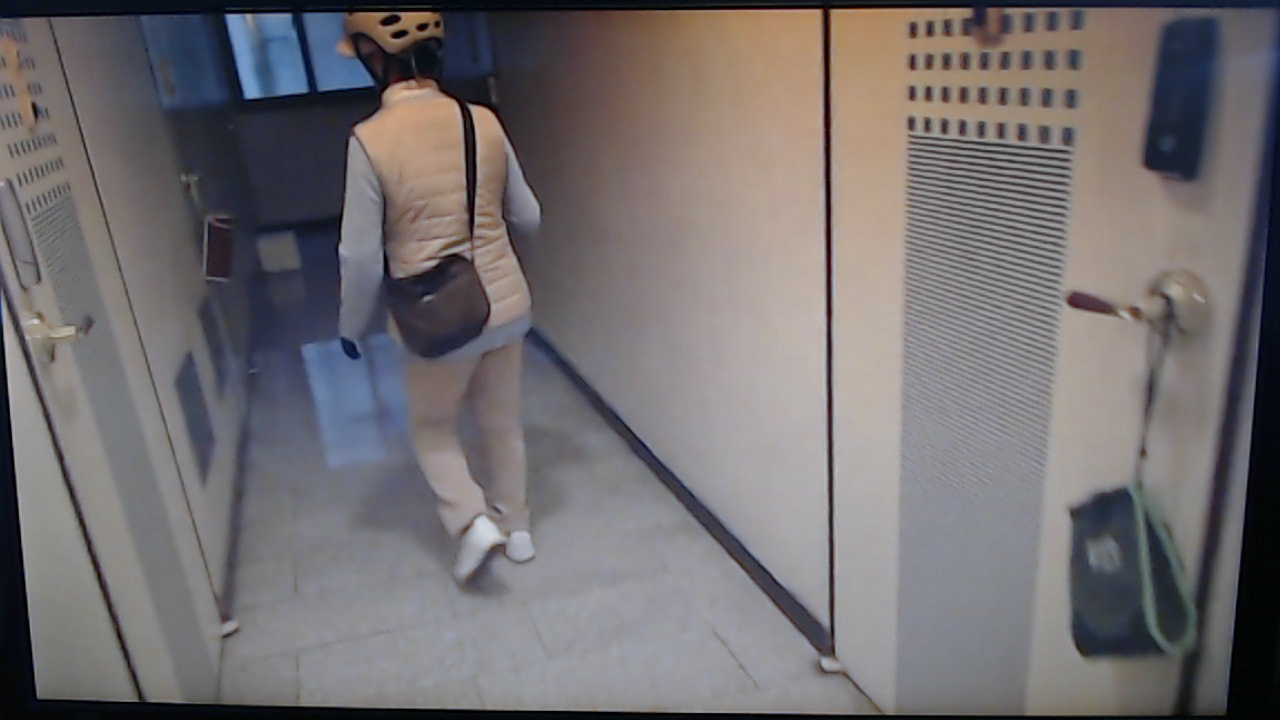Yakurut: (318, 15, 592, 600)
